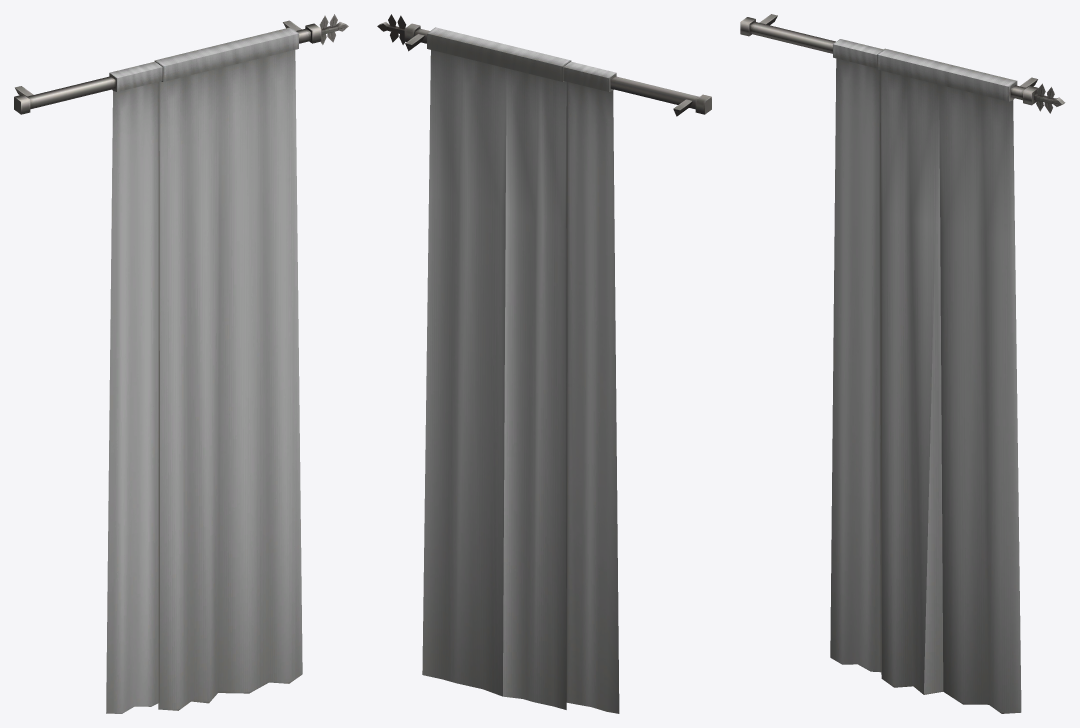
Rendered from cortinaDerecha.fbx.
3 views of the same model, side by side, from view 1: azimuth 30°, elevation 25°; view 2: azimuth 150°, elevation 25°; view 3: azimuth 330°, elevation 25° (orthographic). The views are drawn at different scales.
Parts seen in each view (by area): view 1: cortina; view 2: cortina; view 3: cortina.
Part boxes in pixels (x1=…): cortina: x1=14, y1=14, x2=348, y2=713; cortina: x1=377, y1=14, x2=711, y2=713; cortina: x1=740, y1=14, x2=1065, y2=713.
Size of the model in its own units: 150 by 285 by 15.63.
Materials: 2 (2 with a texture image).
